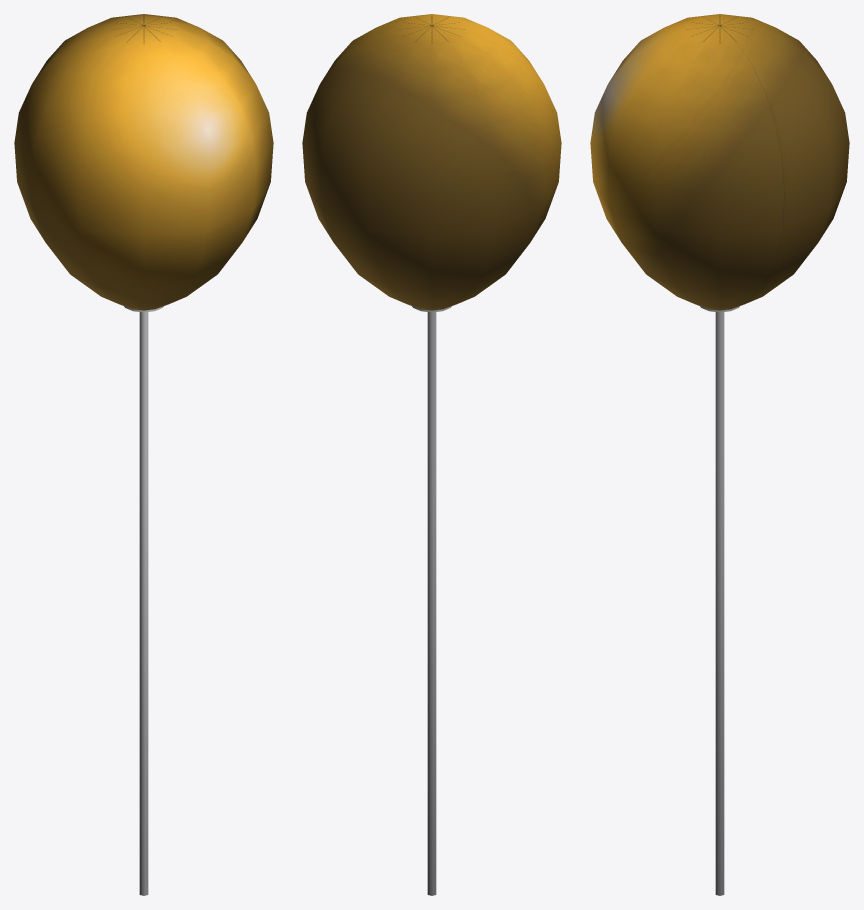
Rendered from balon kuning.fbx.
3 views of the same model, side by side, from view 1: azimuth 30°, elevation 25°; view 2: azimuth 150°, elevation 25°; view 3: azimuth 270°, elevation 25° (orthographic).
Parts seen in each view (by area): view 1: balon2; view 2: balon2; view 3: balon2.
Boxes of the visible parts, left/top/right/bottom form: balon2: left=14, top=14, right=273, bottom=895; balon2: left=302, top=14, right=561, bottom=895; balon2: left=590, top=14, right=849, bottom=895.
Size of the model in its own units: 3.18 by 11.75 by 3.18.
Materials: 1 (1 with a texture image).
